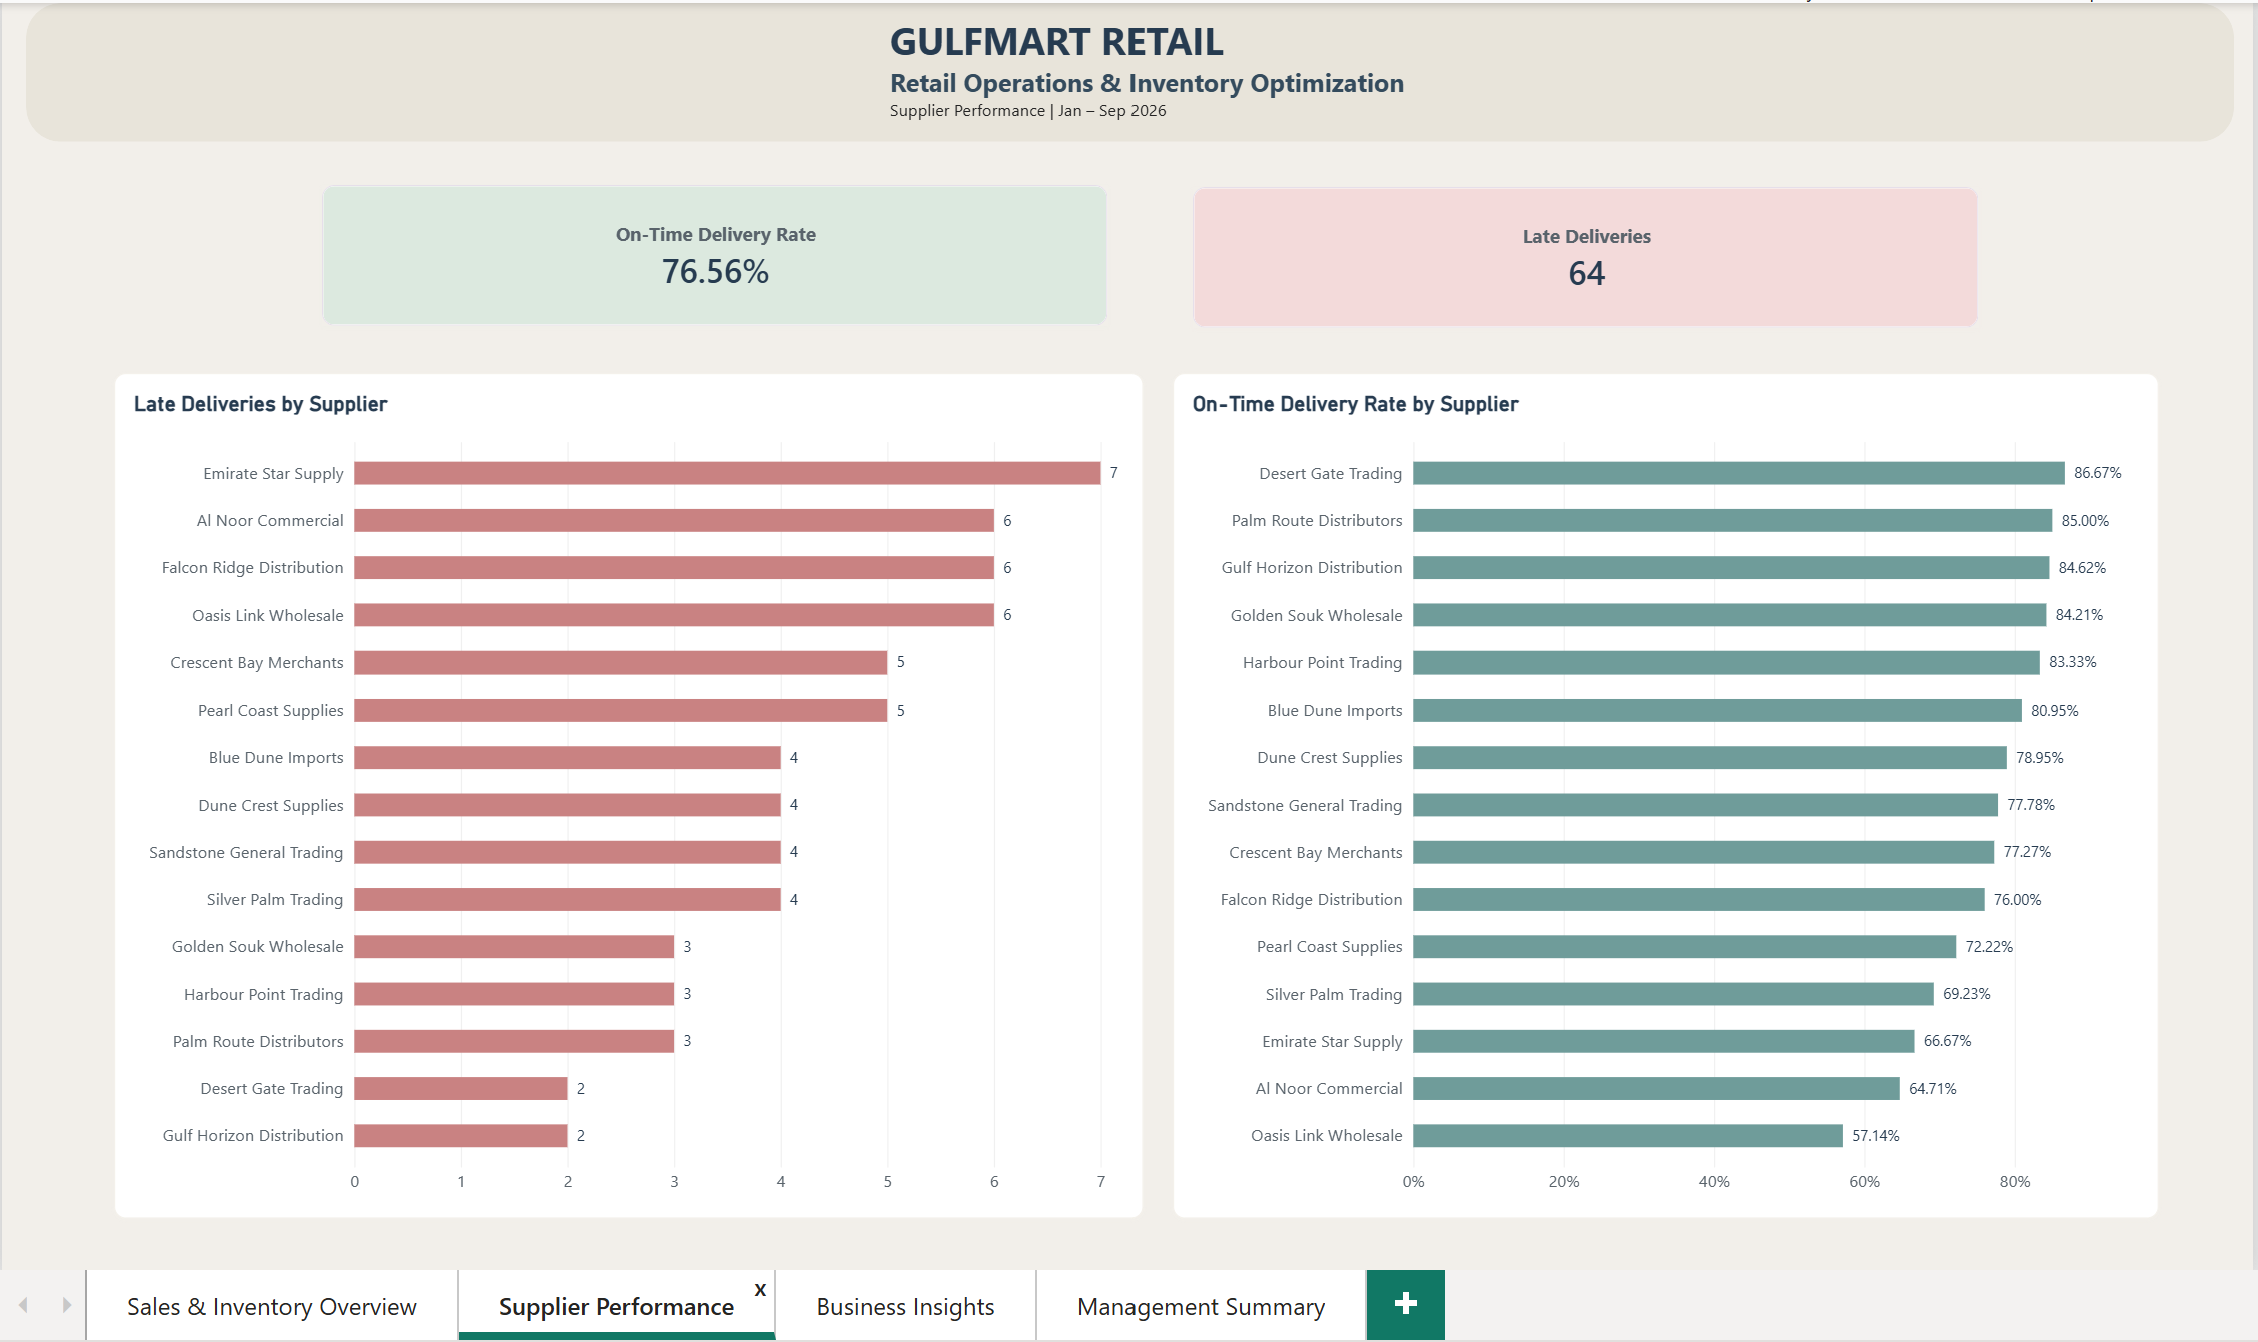

The dashboard page shown, as its layout file describes it:
{"tool":"powerbi","page":{"name":"Supplier Performance","canvas":[1920,1080],"ordinal":1},"visuals":[{"type":"cardVisual","fields":{"Data":["Purchase Orders.Supplier On-Time Delivery %"]},"box":[272.7,154.5,670.5,120.5],"z":0},{"type":"cardVisual","fields":{"Data":["Purchase Orders.Late Deliveries"]},"box":[1015.9,156.8,670.5,120.5],"z":1000},{"type":"clusteredBarChart","title":"Late Deliveries by Supplier","fields":{"Category":["Suppliers.SupplierName"],"Y":["Purchase Orders.Late Deliveries"]},"box":[95.9,316.3,877.6,720.4],"z":2000},{"type":"clusteredBarChart","title":"On-Time Delivery Rate by Supplier","fields":{"Category":["Suppliers.SupplierName"],"Y":["Purchase Orders.Supplier On-Time Delivery %"]},"box":[998,316.3,840.8,720.4],"z":3000},{"type":"shape","box":[19.7,0,1882.9,118.4],"z":3001},{"type":"textbox","box":[757.1,10.2,516.3,98],"z":3002}]}

Visuals, with their boxes on the page's 1920x1080 design canvas (x1, y1, x2, y2). These are canvas units, not pixel positions in the 2258x1342 screenshot, which may show the page scaled, cropped or inside an application window:
cardVisual - Purchase Orders.Supplier On-Time Delivery %: (x1=273, y1=154, x2=943, y2=275)
cardVisual - Purchase Orders.Late Deliveries: (x1=1016, y1=157, x2=1686, y2=277)
"Late Deliveries by Supplier" clusteredBarChart: (x1=96, y1=316, x2=974, y2=1037)
"On-Time Delivery Rate by Supplier" clusteredBarChart: (x1=998, y1=316, x2=1839, y2=1037)
shape: (x1=20, y1=0, x2=1903, y2=118)
textbox: (x1=757, y1=10, x2=1273, y2=108)
